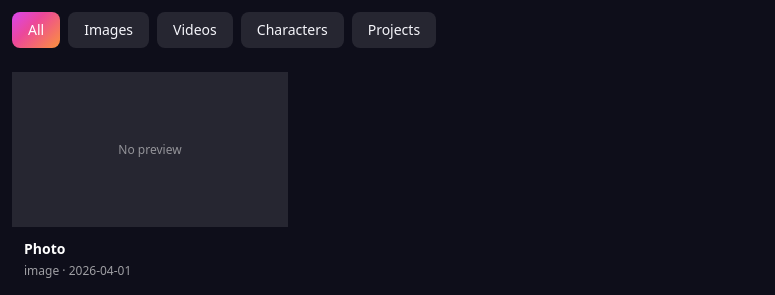
Test case: LibraryTabs › shows empty state when no items match
Click the tab "Videos".
click(195, 30)  # box [157,12,233,48]
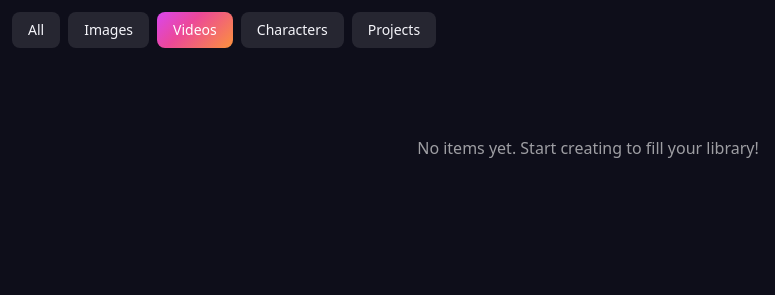
Check: the text "No items yet. Start creating to fill your library!" is shown, box [417,137,759,159]
